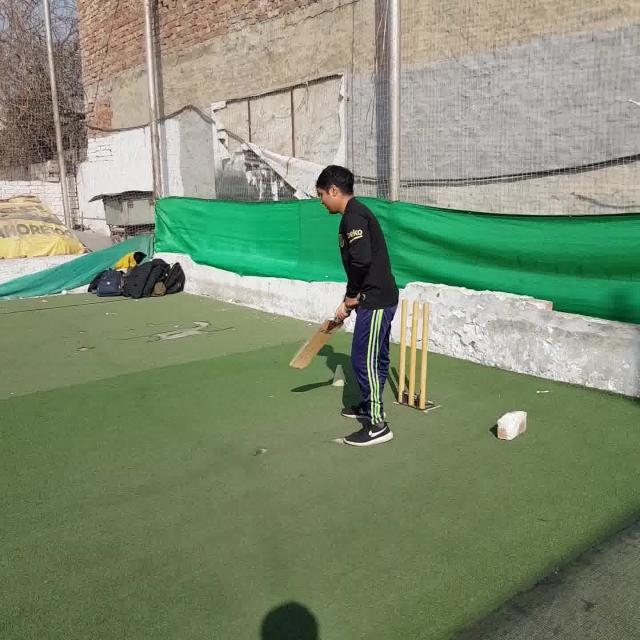ball: (62, 289, 68, 295)
bat: (288, 293, 361, 371)
